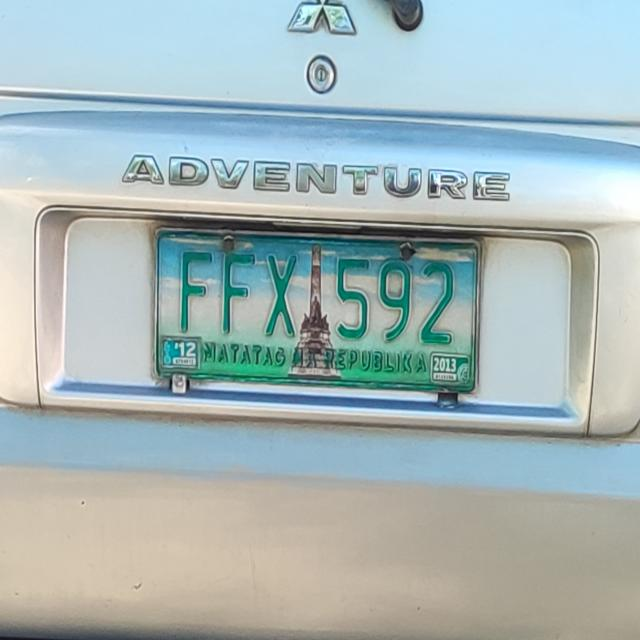plate: (147, 216, 489, 407)
